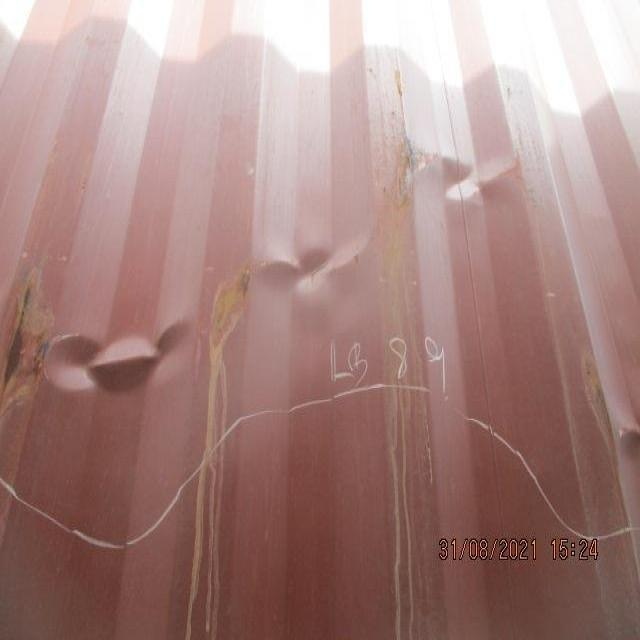dent: (2, 126, 569, 417)
